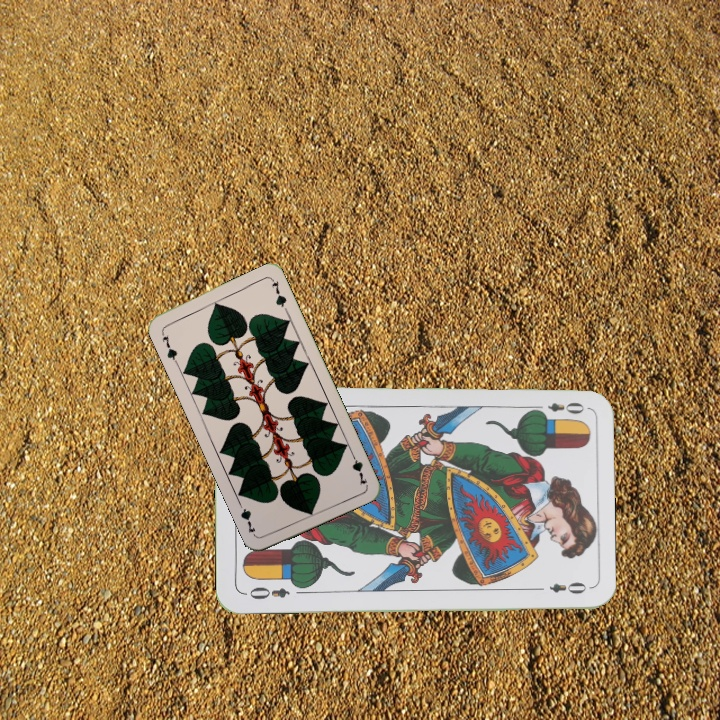EO: (529, 398, 587, 416), (245, 583, 293, 602)
G7: (347, 448, 370, 488), (157, 327, 180, 366)
